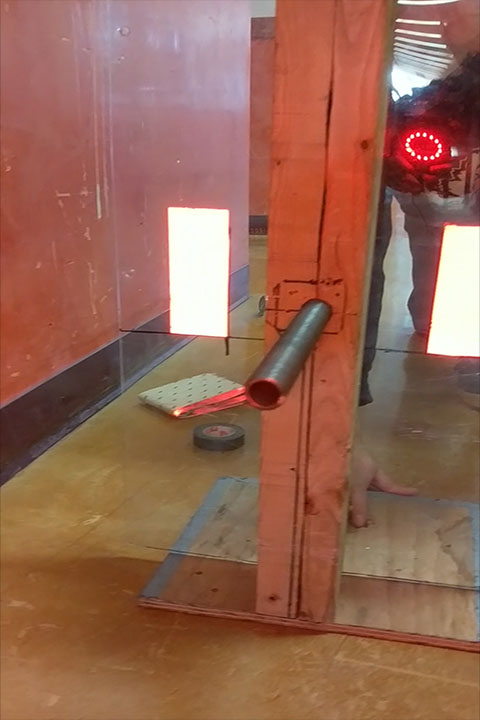gear: (164, 205, 230, 339), (425, 223, 480, 359)
